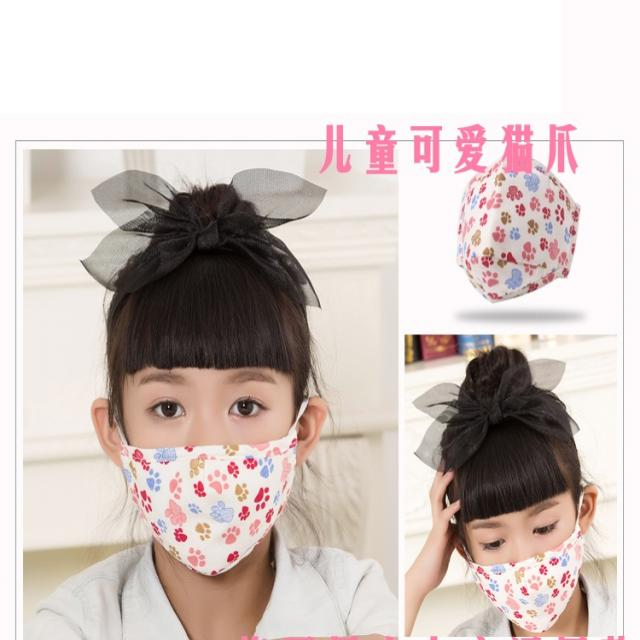mask: (120, 325, 294, 578), (462, 472, 576, 632)
